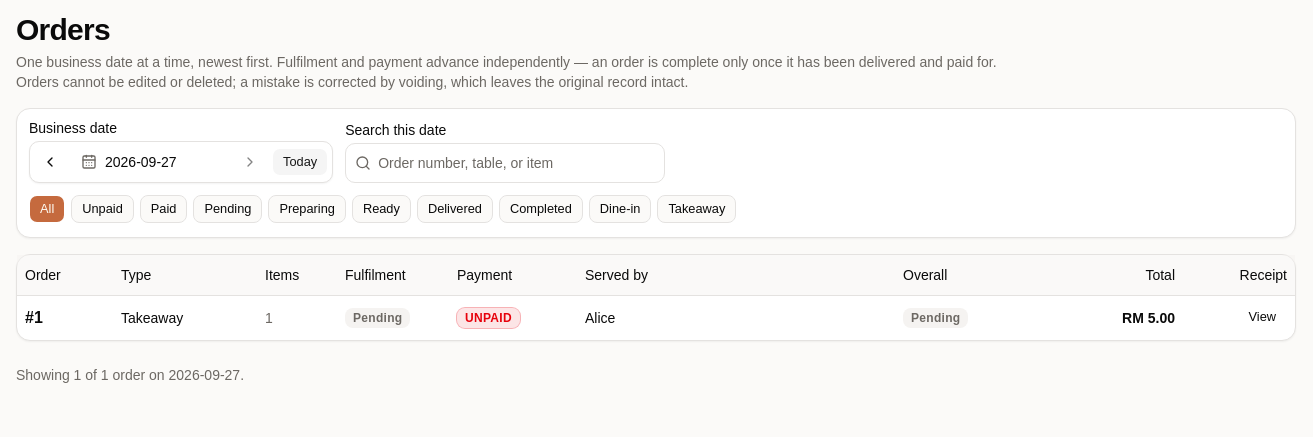
Test: Orders list during a business-date change › shows the empty state for a date with no orders
Click the button with test id "previous-day".
click(50, 162)  # box [34,146,66,178]
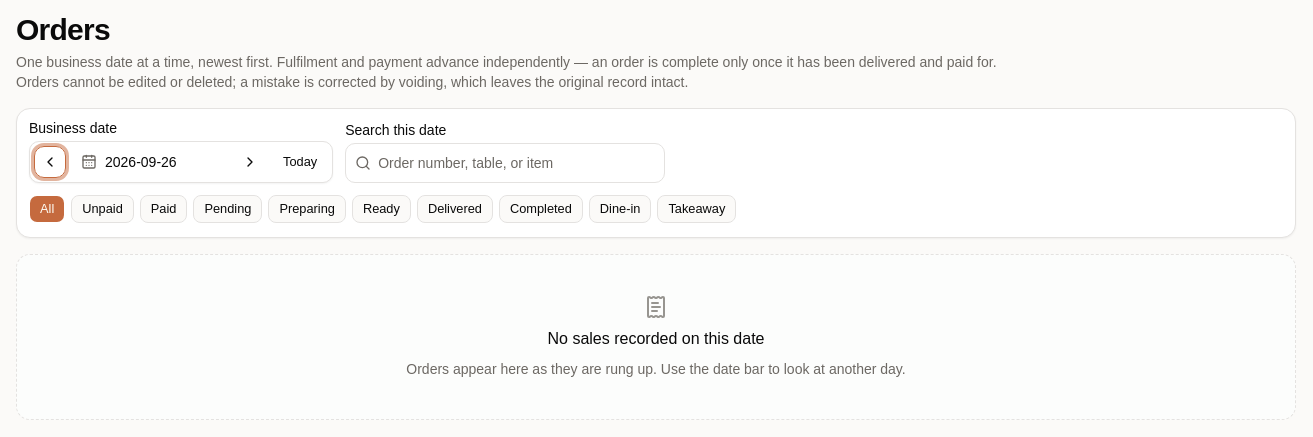
Result: the element with test id "orders-empty" is shown at [16,254,1296,420]
